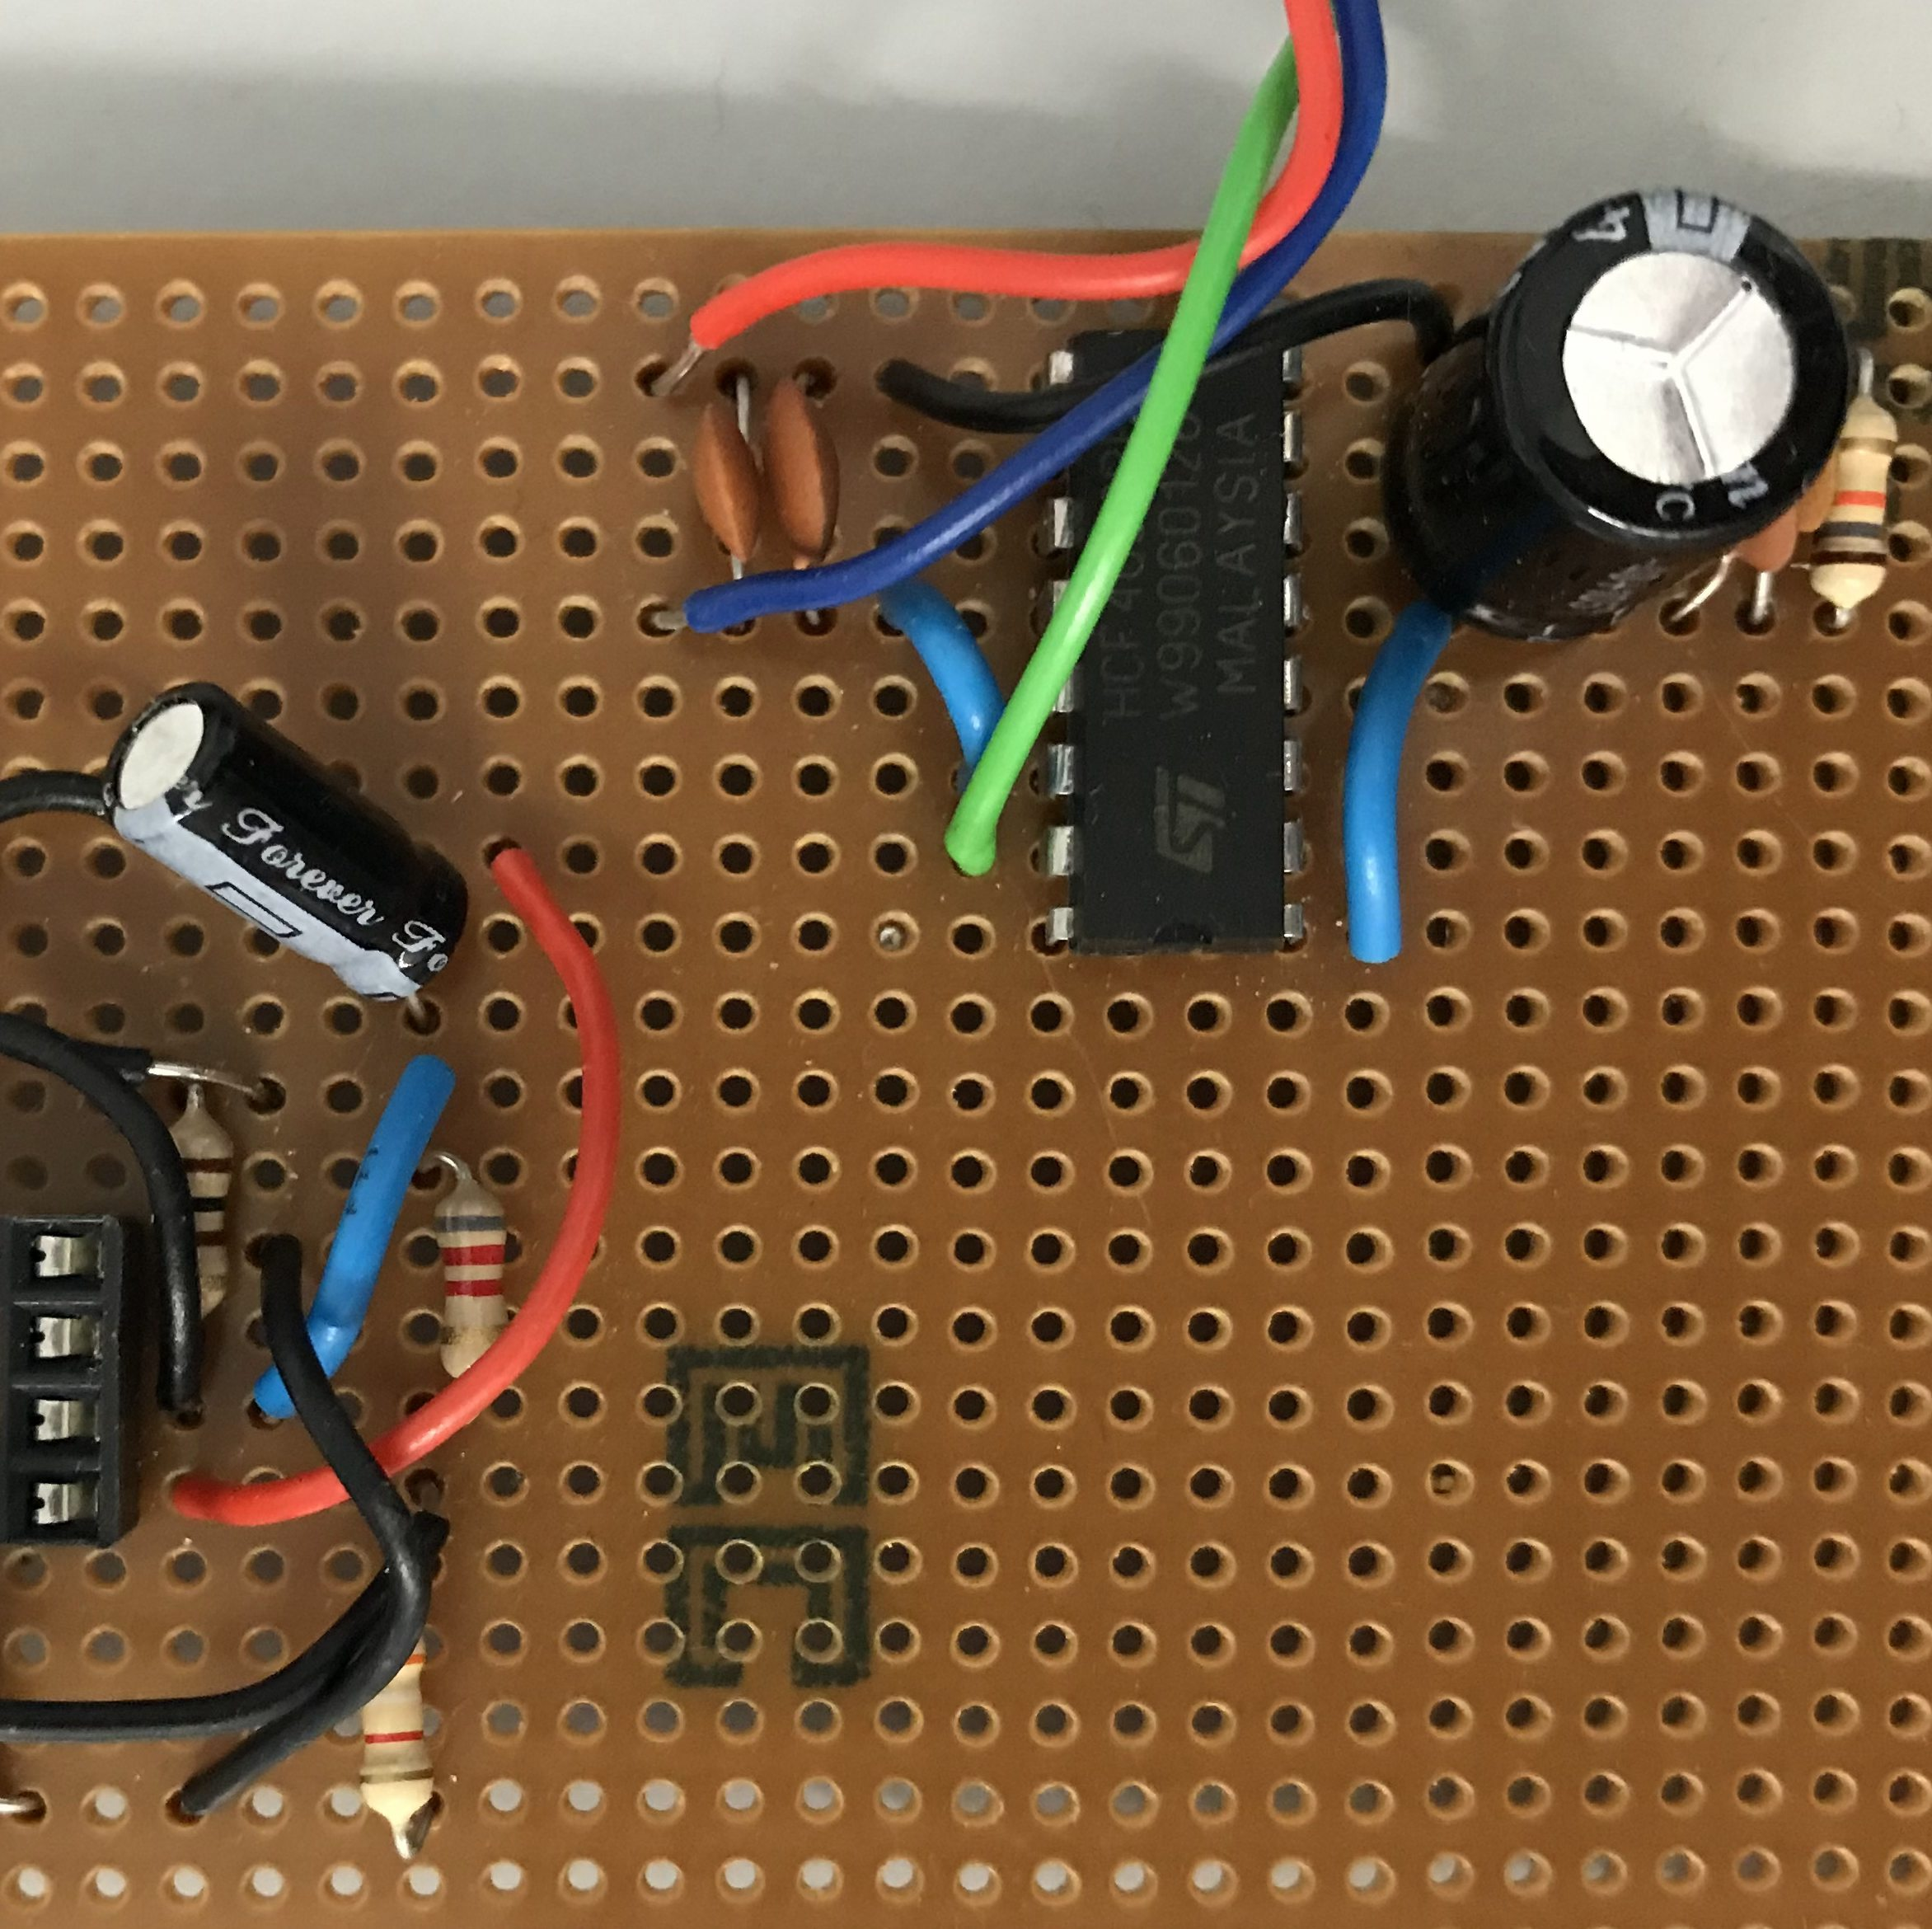Capacitor: (1381, 168, 1860, 655), (94, 677, 477, 1014)
Resistor: (344, 1599, 445, 1834), (1800, 378, 1895, 618), (150, 1095, 240, 1332), (422, 1171, 517, 1392)
